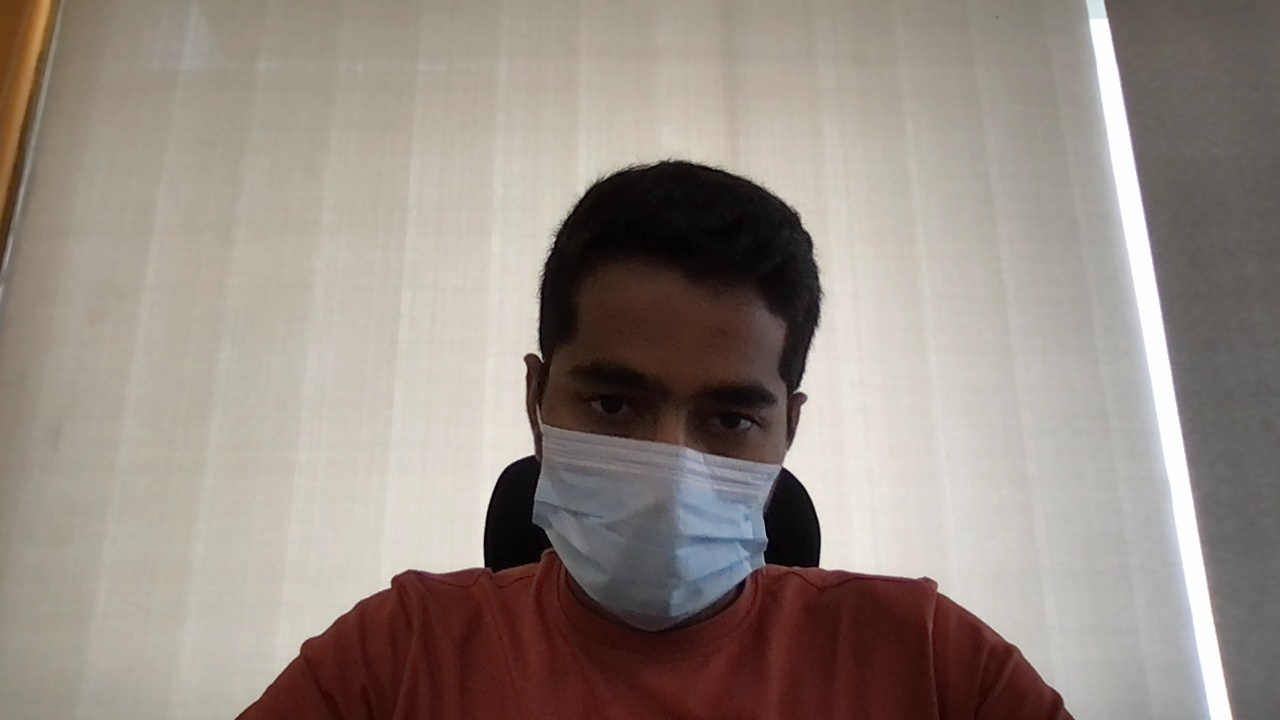mask: (531, 417, 780, 633)
